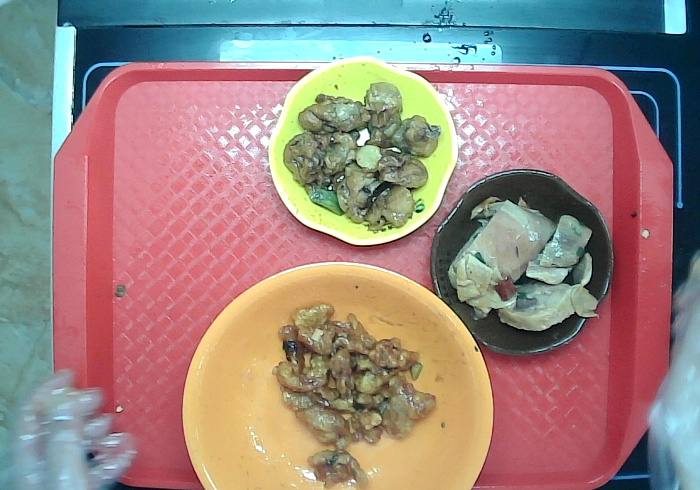YKMZ-Huang_Se_Ao_Bian_Wan: (265, 51, 463, 245)
YKMZ-Ju_Se_Tang_Wan: (181, 258, 496, 490)
YKMZ-Ka_Fei_Ao_Bian_Wan: (431, 167, 615, 357)
